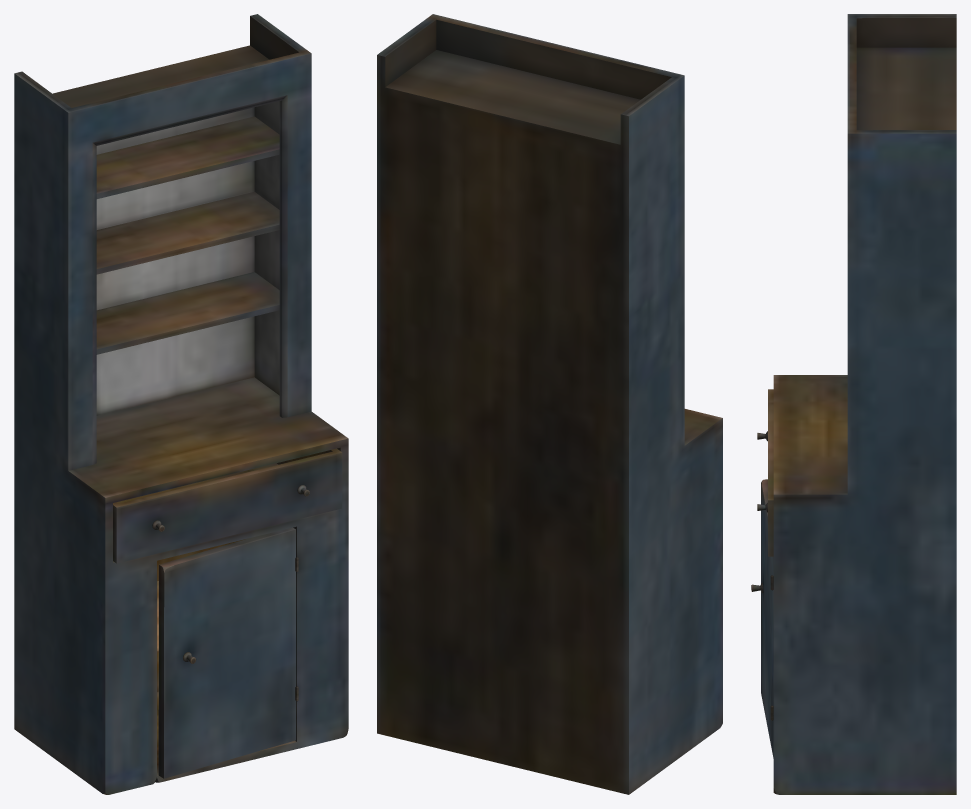
The model's file is locker.glb.
The picture shows the model from 3 angles, left to right: view 1: azimuth 30°, elevation 25°; view 2: azimuth 150°, elevation 25°; view 3: azimuth 270°, elevation 25°; orthographic projection. The views are drawn at different scales.
Parts seen in each view (by area): view 1: painted_wooden_cabinet_02, painted_wooden_cabinet_02_door, painted_wooden_cabinet_02_drawer; view 2: painted_wooden_cabinet_02; view 3: painted_wooden_cabinet_02, painted_wooden_cabinet_02_door, painted_wooden_cabinet_02_drawer.
Boxes of the visible parts, x1,y1,x2,y2 form: painted_wooden_cabinet_02: [14, 14, 348, 794]; painted_wooden_cabinet_02_door: [158, 527, 295, 778]; painted_wooden_cabinet_02_drawer: [113, 448, 342, 563]; painted_wooden_cabinet_02: [377, 14, 722, 794]; painted_wooden_cabinet_02: [770, 14, 956, 794]; painted_wooden_cabinet_02_door: [751, 479, 773, 758]; painted_wooden_cabinet_02_drawer: [757, 389, 773, 556].
Size of the model in its own units: 0.9969 by 2.57 by 0.7224.
1 material, 1 textured.
